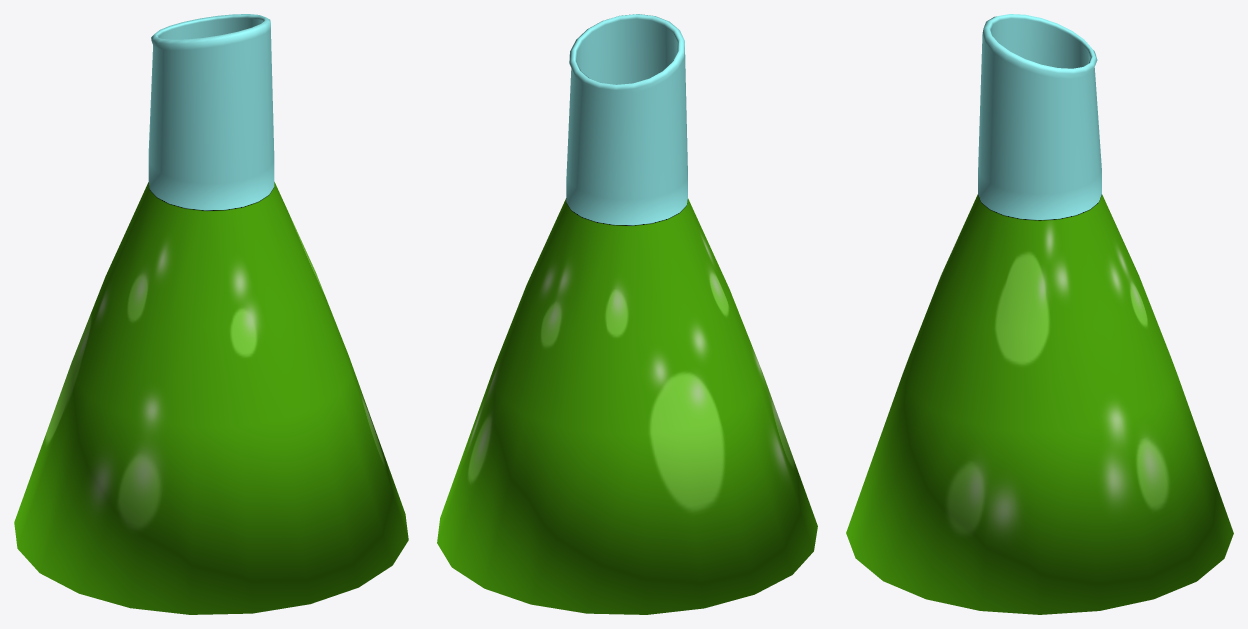
The model's file is LabDesk_Object_EnlenmeyerFlaskFill.fbx.
3 views of the same model, side by side, from view 1: azimuth 30°, elevation 25°; view 2: azimuth 150°, elevation 25°; view 3: azimuth 270°, elevation 25° (orthographic). The views are drawn at different scales.
Visible parts, largest first — view 1: polySurface3; view 2: polySurface3; view 3: polySurface3.
Boxes of the visible parts, left/top/right/bottom form: polySurface3: left=14, top=14, right=408, bottom=614; polySurface3: left=437, top=14, right=817, bottom=614; polySurface3: left=846, top=14, right=1233, bottom=614.
Size of the model in its own units: 5.68 by 8.2 by 5.69.
